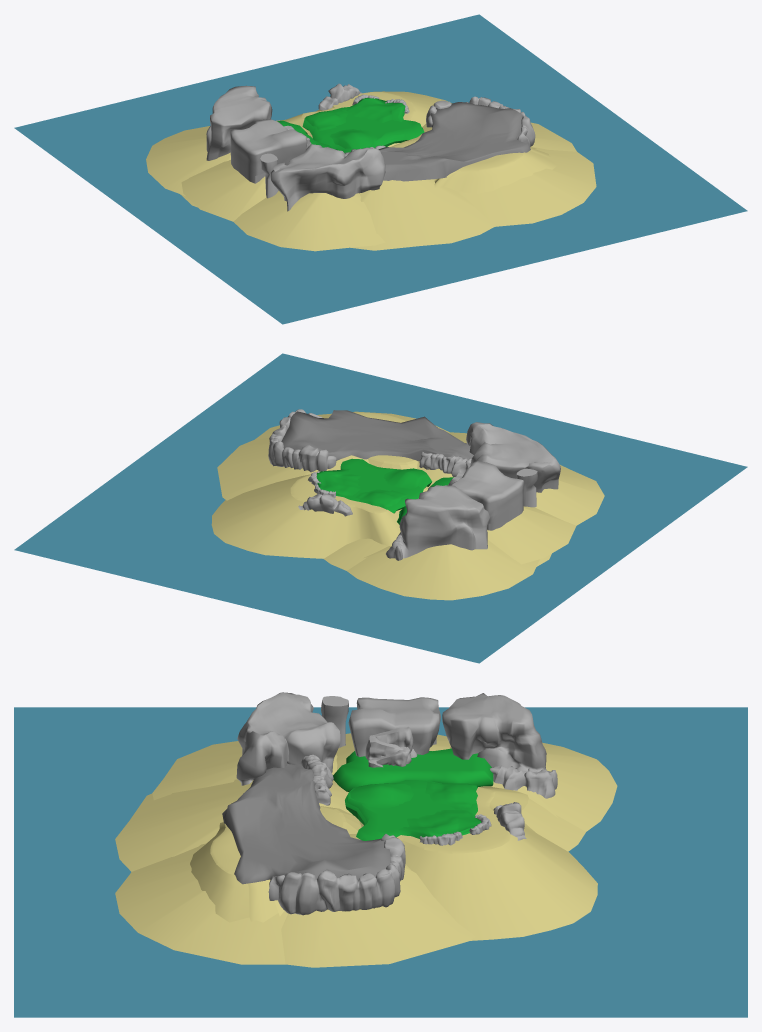
The model's file is Island_redone.fbx.
The picture shows the model from 3 angles, top to bottom: view 1: azimuth 30°, elevation 25°; view 2: azimuth 150°, elevation 25°; view 3: azimuth 270°, elevation 25°; orthographic projection. The views are drawn at different scales.
Visible parts, largest first — view 1: Ocean_geo, Rear_island_geo, pPlane3, pPlane1, pPlane4, Moon_cliff_geo_bottom, pPlane6, pPlane7, Rear_beach_geo, Hills_main_geo, main_island_grass_geo, Moon_cliff_bottom_geo (+8 smaller); view 2: Ocean_geo, front_beach_geo, pPlane7, Rear_island_geo, polySurface1, pPlane6, pPlane5, pPlane1, Moon_cliff_geo_top, Hills_main_geo, main_island_grass_geo, Moon_cliff_top_geo (+10 smaller); view 3: Ocean_geo, front_beach_geo, Rear_island_geo, pPlane5, pPlane4, pPlane3, Cliff_border_Side_geo, pPlane7, Rear_beach_geo, Hills_main_geo, polySurface1, Side_island_geo (+16 smaller).
Boxes of the visible parts, x1,y1,x2,y2 form: Ocean_geo: [14, 14, 747, 324]; Rear_island_geo: [378, 102, 530, 181]; pPlane3: [350, 179, 493, 250]; pPlane1: [233, 190, 385, 251]; pPlane4: [458, 146, 596, 226]; Moon_cliff_geo_bottom: [270, 146, 385, 211]; pPlane6: [181, 160, 266, 221]; pPlane7: [146, 126, 230, 195]; Rear_beach_geo: [434, 147, 557, 194]; Hills_main_geo: [306, 97, 424, 149]; main_island_grass_geo: [302, 107, 422, 153]; Moon_cliff_bottom_geo: [230, 131, 307, 183]; Ocean_geo: [14, 353, 747, 663]; front_beach_geo: [211, 474, 428, 558]; pPlane7: [347, 540, 539, 600]; Rear_island_geo: [281, 410, 473, 461]; polySurface1: [399, 488, 489, 558]; pPlane6: [487, 506, 576, 564]; pPlane5: [217, 437, 369, 500]; pPlane1: [535, 465, 604, 525]; Moon_cliff_geo_top: [476, 423, 555, 470]; Hills_main_geo: [316, 469, 427, 508]; main_island_grass_geo: [336, 458, 432, 513]; Moon_cliff_top_geo: [451, 461, 522, 499]; Ocean_geo: [14, 707, 747, 1017]; front_beach_geo: [359, 786, 597, 940]; Rear_island_geo: [222, 763, 390, 884]; pPlane5: [281, 833, 475, 967]; pPlane4: [115, 843, 287, 964]; pPlane3: [115, 779, 352, 871]; Cliff_border_Side_geo: [268, 869, 394, 915]; pPlane7: [450, 742, 617, 831]; Rear_beach_geo: [190, 822, 284, 922]; Hills_main_geo: [346, 782, 481, 840]; polySurface1: [442, 713, 551, 774]; Side_island_geo: [333, 748, 493, 791].
Bounding box in the file's own units: 551 × 99.33 × 551.
